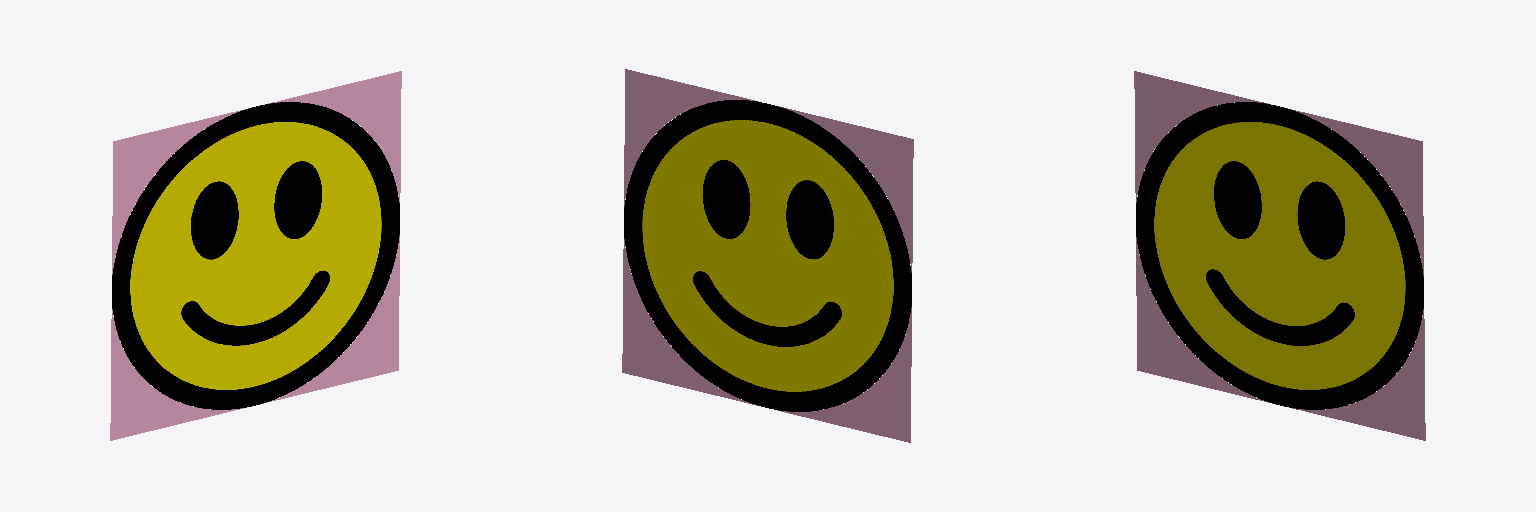
3 views of the same model, side by side, from view 1: azimuth 30°, elevation 25°; view 2: azimuth 150°, elevation 25°; view 3: azimuth 330°, elevation 25° (orthographic).
Visible parts, largest first — view 1: Plane; view 2: Plane; view 3: Plane.
Part boxes in pixels (bbox=[...]): Plane: bbox=[110, 71, 401, 440]; Plane: bbox=[622, 69, 913, 442]; Plane: bbox=[1134, 71, 1425, 440].
Bounding box in the file's own units: 2 × 2 × 0.0349.
Materials: 1 (1 with a texture image).